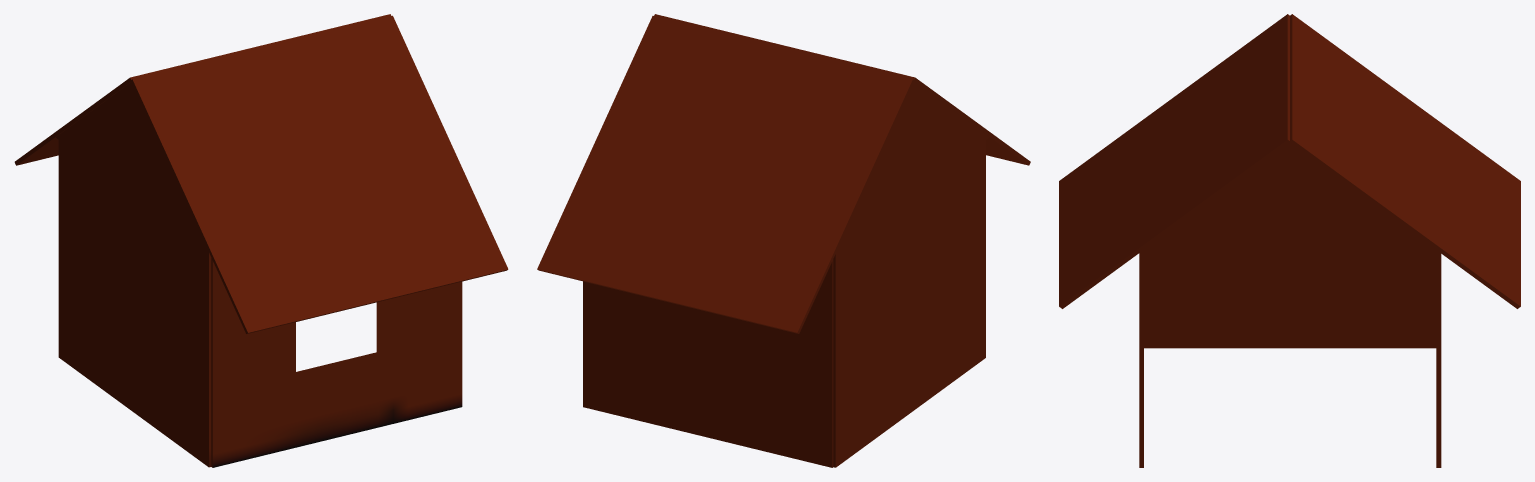
Rendered from shed.fbx.
The picture shows the model from 3 angles, left to right: view 1: azimuth 30°, elevation 25°; view 2: azimuth 150°, elevation 25°; view 3: azimuth 270°, elevation 25°; orthographic projection.
Visible parts, largest first — view 1: Cube; view 2: Cube; view 3: Cube.
Boxes of the visible parts, bbox=[...] form: Cube: bbox=[14, 14, 508, 467]; Cube: bbox=[537, 14, 1030, 467]; Cube: bbox=[1059, 14, 1520, 467].
Bounding box in the file's own units: 247 × 303 × 383.
